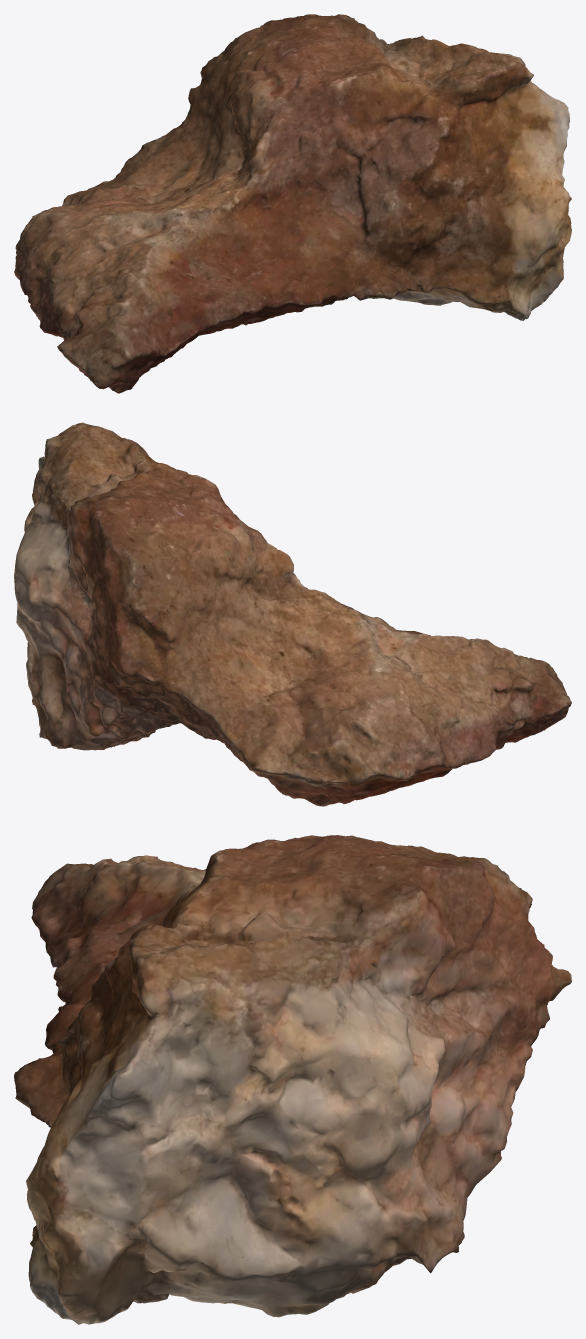
File: stone_01.glb
3 views of the same model, one above another, from view 1: azimuth 30°, elevation 25°; view 2: azimuth 150°, elevation 25°; view 3: azimuth 270°, elevation 25° (orthographic). The views are drawn at different scales.
Parts seen in each view (by area): view 1: stone_01; view 2: stone_01; view 3: stone_01.
Part boxes in pixels (bbox=[...]): stone_01: bbox=[14, 14, 571, 393]; stone_01: bbox=[14, 422, 571, 806]; stone_01: bbox=[14, 835, 571, 1324].
Bounding box in the file's own units: 0.1469 × 0.0718 × 0.0891.
Materials: 1 (1 with a texture image).
